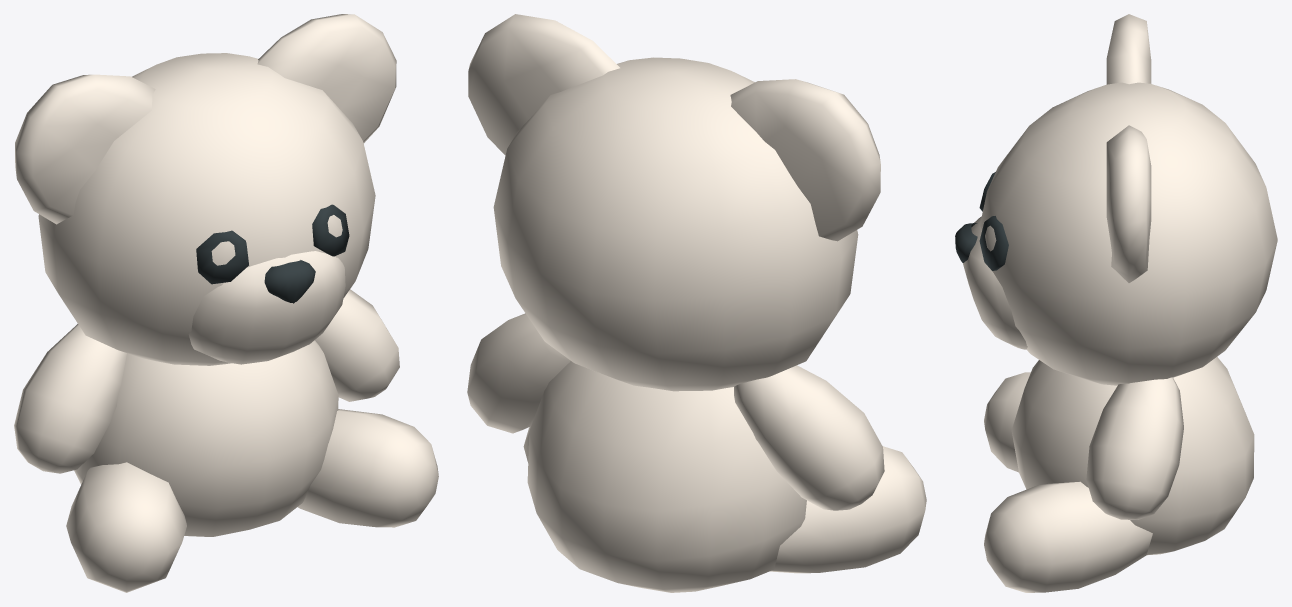
File: TeddyBear_White.fbx
3 renders of one model, left to right at view 1: azimuth 30°, elevation 25°; view 2: azimuth 150°, elevation 25°; view 3: azimuth 270°, elevation 25°, orthographic. The views are drawn at different scales.
Visible parts, largest first — view 1: TeddyBear_White; view 2: TeddyBear_White; view 3: TeddyBear_White.
Boxes of the visible parts, x1,y1,x2,y2 form: TeddyBear_White: [14, 14, 438, 592]; TeddyBear_White: [467, 14, 926, 592]; TeddyBear_White: [955, 14, 1277, 592].
Bounding box in the file's own units: 4.03 × 4.85 × 3.12.
